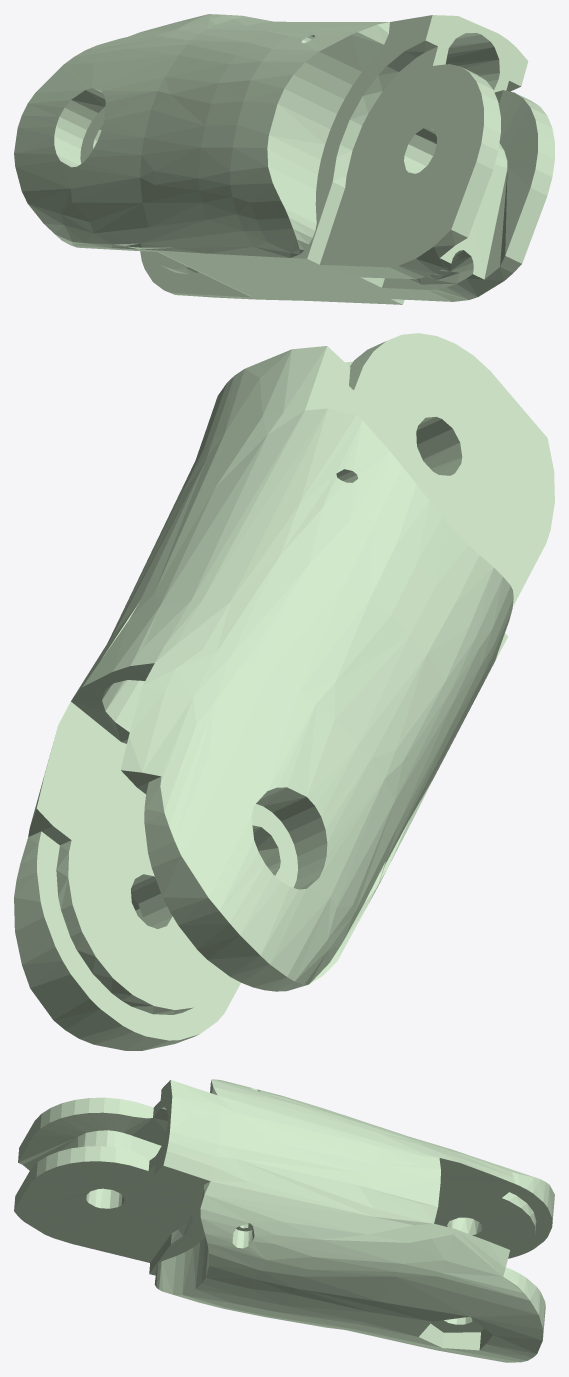
Rendered from i02_leftHand_pinkyPhal_visual.obj.light.glb.
3 renders of one model, top to bottom at view 1: azimuth 30°, elevation 25°; view 2: azimuth 150°, elevation 25°; view 3: azimuth 270°, elevation 25°, orthographic. The views are drawn at different scales.
Bounding box in the file's own units: 0.2345 × 0.3092 × 0.4963.
